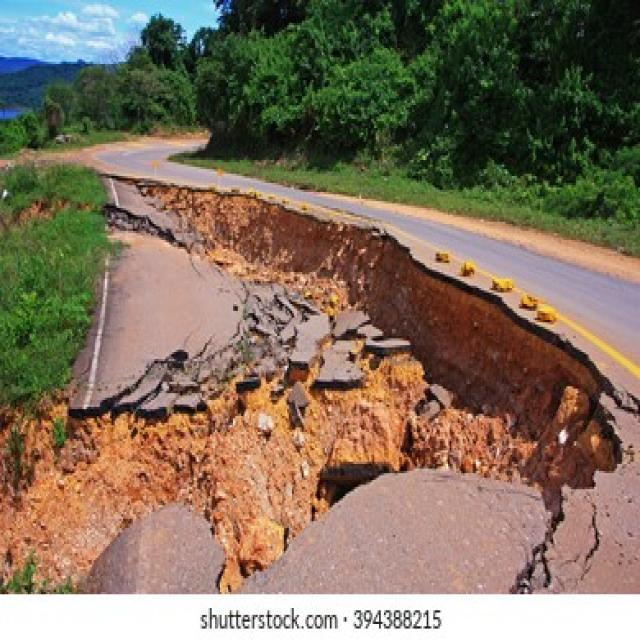landSliding: (74, 137, 640, 577)
